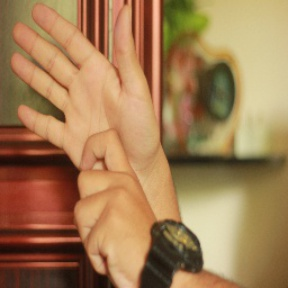R: (9, 2, 167, 259)
